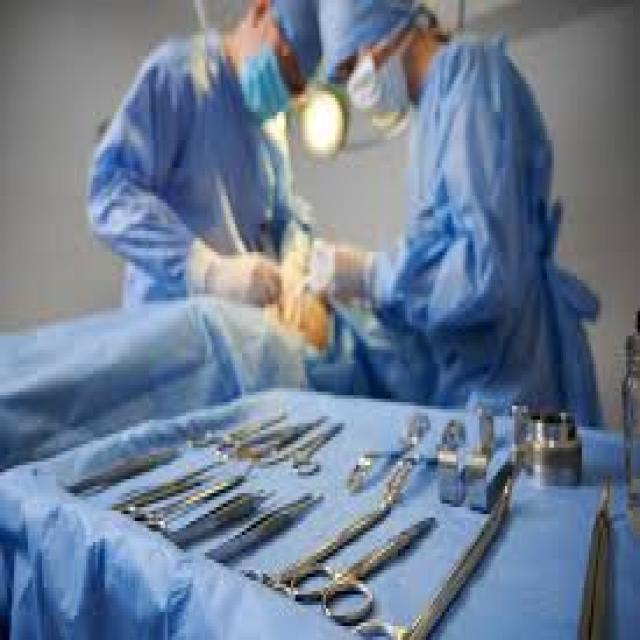tools_table: (47, 372, 640, 640)
